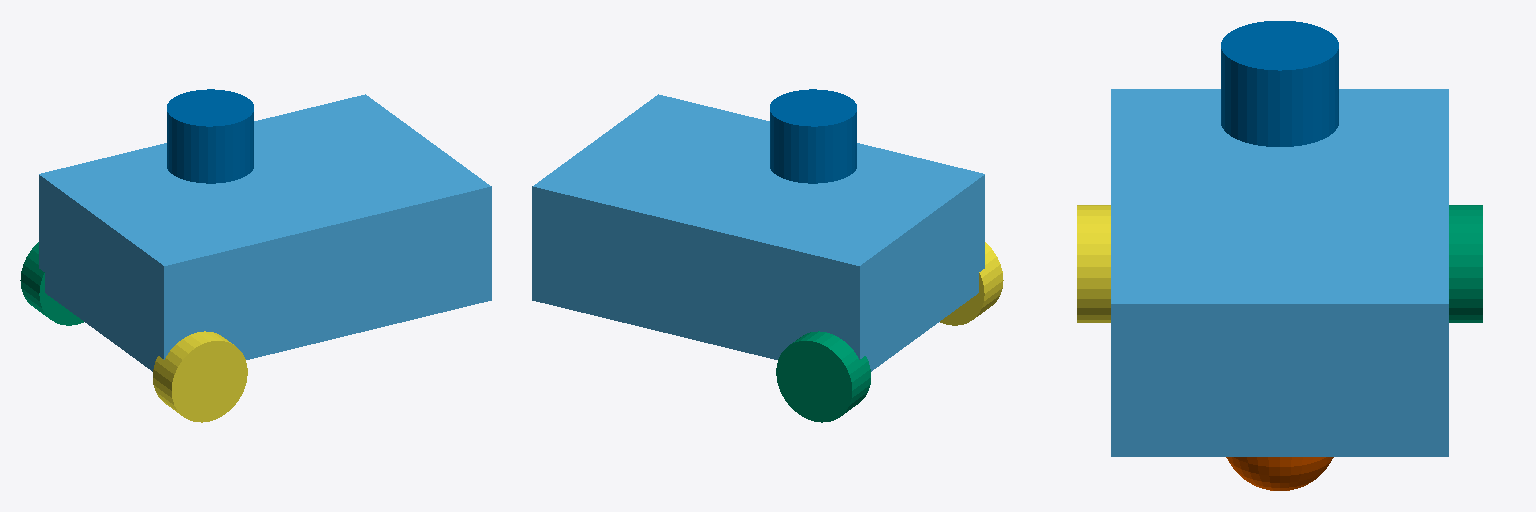
URDF robot description (diffbot):
<?xml version="1.0" ?>
<robot name="diffbot">
  <!-- Auto-generated from models/diffbot.sdf. Do not edit manually. -->
  <link name="base_link_inertia">
    <inertial>
      <origin xyz="0 0 0" rpy="0 0 0"/>
      <mass value="5.0"/>
      <inertia ixx="0.05" ixy="0" ixz="0" iyy="0.08" iyz="0" izz="0.10"/>
    </inertial>
  </link>
  <!-- TF tree: odom -> base_link -> laser_link -->
  <link name="base_link">
    <visual>
      <origin xyz="0 0 0.05" rpy="0 0 0"/>
      <geometry>
        <box size="0.30 0.20 0.10"/>
      </geometry>
    </visual>
    <collision>
      <origin xyz="0 0 0.05" rpy="0 0 0"/>
      <geometry>
        <box size="0.30 0.20 0.10"/>
      </geometry>
    </collision>
  </link>
  <link name="left_wheel_link">
    <inertial>
      <origin xyz="0 0 0" rpy="0 0 0"/>
      <mass value="0.3"/>
      <inertia ixx="0.0005" ixy="0" ixz="0" iyy="0.001" iyz="0" izz="0.0005"/>
    </inertial>
    <visual>
      <origin xyz="0 0 0" rpy="0 0 0"/>
      <geometry>
        <cylinder radius="0.035" length="0.03"/>
      </geometry>
    </visual>
    <collision>
      <origin xyz="0 0 0" rpy="0 0 0"/>
      <geometry>
        <cylinder radius="0.035" length="0.03"/>
      </geometry>
    </collision>
  </link>
  <link name="right_wheel_link">
    <inertial>
      <origin xyz="0 0 0" rpy="0 0 0"/>
      <mass value="0.3"/>
      <inertia ixx="0.0005" ixy="0" ixz="0" iyy="0.001" iyz="0" izz="0.0005"/>
    </inertial>
    <visual>
      <origin xyz="0 0 0" rpy="0 0 0"/>
      <geometry>
        <cylinder radius="0.035" length="0.03"/>
      </geometry>
    </visual>
    <collision>
      <origin xyz="0 0 0" rpy="0 0 0"/>
      <geometry>
        <cylinder radius="0.035" length="0.03"/>
      </geometry>
    </collision>
  </link>
  <link name="laser_link">
    <inertial>
      <origin xyz="0 0 0" rpy="0 0 0"/>
      <mass value="0.1"/>
      <inertia ixx="0.0001" ixy="0" ixz="0" iyy="0.0001" iyz="0" izz="0.0001"/>
    </inertial>
    <visual>
      <origin xyz="0 0 0" rpy="0 0 0"/>
      <geometry>
        <cylinder radius="0.035" length="0.05"/>
      </geometry>
    </visual>
    <collision>
      <origin xyz="0 0 0" rpy="0 0 0"/>
      <geometry>
        <cylinder radius="0.035" length="0.05"/>
      </geometry>
    </collision>
  </link>
  <link name="caster_link">
    <inertial>
      <origin xyz="0 0 0" rpy="0 0 0"/>
      <mass value="0.05"/>
      <inertia ixx="0.00002" ixy="0" ixz="0" iyy="0.00002" iyz="0" izz="0.00002"/>
    </inertial>
    <visual>
      <origin xyz="0 0 0" rpy="0 0 0"/>
      <geometry>
        <sphere radius="0.035"/>
      </geometry>
    </visual>
    <collision>
      <origin xyz="0 0 0" rpy="0 0 0"/>
      <geometry>
        <sphere radius="0.035"/>
      </geometry>
    </collision>
  </link>
  <joint name="left_wheel_joint" type="revolute">
    <parent link="base_link"/>
    <child link="left_wheel_link"/>
    <origin xyz="-0.12 0.105 0" rpy="1.5708 0 0"/>
    <axis xyz="0 1 0"/>
    <limit lower="-1e16" upper="1e16" effort="0" velocity="0"/>
  </joint>
  <joint name="right_wheel_joint" type="revolute">
    <parent link="base_link"/>
    <child link="right_wheel_link"/>
    <origin xyz="-0.12 -0.105 0" rpy="1.5708 0 0"/>
    <axis xyz="0 1 0"/>
    <limit lower="-1e16" upper="1e16" effort="0" velocity="0"/>
  </joint>
  <joint name="laser_joint" type="fixed">
    <parent link="base_link"/>
    <child link="laser_link"/>
    <origin xyz="-0.05 0 0.15" rpy="0 0 0"/>
  </joint>
  <joint name="caster_joint" type="fixed">
    <parent link="base_link"/>
    <child link="caster_link"/>
    <origin xyz="0.115 0 0" rpy="0 0 0"/>
  </joint>
  <joint name="base_link_inertia_joint" type="fixed">
    <parent link="base_link"/>
    <child link="base_link_inertia"/>
    <origin xyz="0 0 0" rpy="0 0 0"/>
  </joint>
</robot>

--- Render facts (derived) ---
3 views of the same robot in one strip: view 1: azimuth 30°, elevation 25°; view 2: azimuth 150°, elevation 25°; view 3: azimuth 270°, elevation 25° (orthographic).
Model diffbot with 6 links and 5 joints (2 revolute, 3 fixed), rooted at base_link, posed every joint at zero.
Visible links, largest first — view 1: base_link, laser_link, right_wheel_link, left_wheel_link; view 2: base_link, laser_link, left_wheel_link, right_wheel_link; view 3: base_link, laser_link, left_wheel_link, right_wheel_link, caster_link.
Boxes of the visible links, box(x1,y1,x2,y2) form: base_link: box(39, 94, 491, 371); laser_link: box(167, 89, 253, 183); right_wheel_link: box(153, 331, 247, 422); left_wheel_link: box(20, 242, 83, 325); base_link: box(532, 94, 984, 371); laser_link: box(770, 89, 856, 183); left_wheel_link: box(776, 331, 870, 422); right_wheel_link: box(940, 242, 1003, 325); base_link: box(1111, 89, 1448, 456); laser_link: box(1221, 21, 1338, 146); left_wheel_link: box(1449, 205, 1482, 322); right_wheel_link: box(1077, 205, 1110, 322); caster_link: box(1226, 457, 1333, 490).
Bounding box of the posed robot: 0.305 × 0.24 × 0.21 m (x, y, z).
Geometry: primitives only (box / cylinder / sphere), no mesh files.
